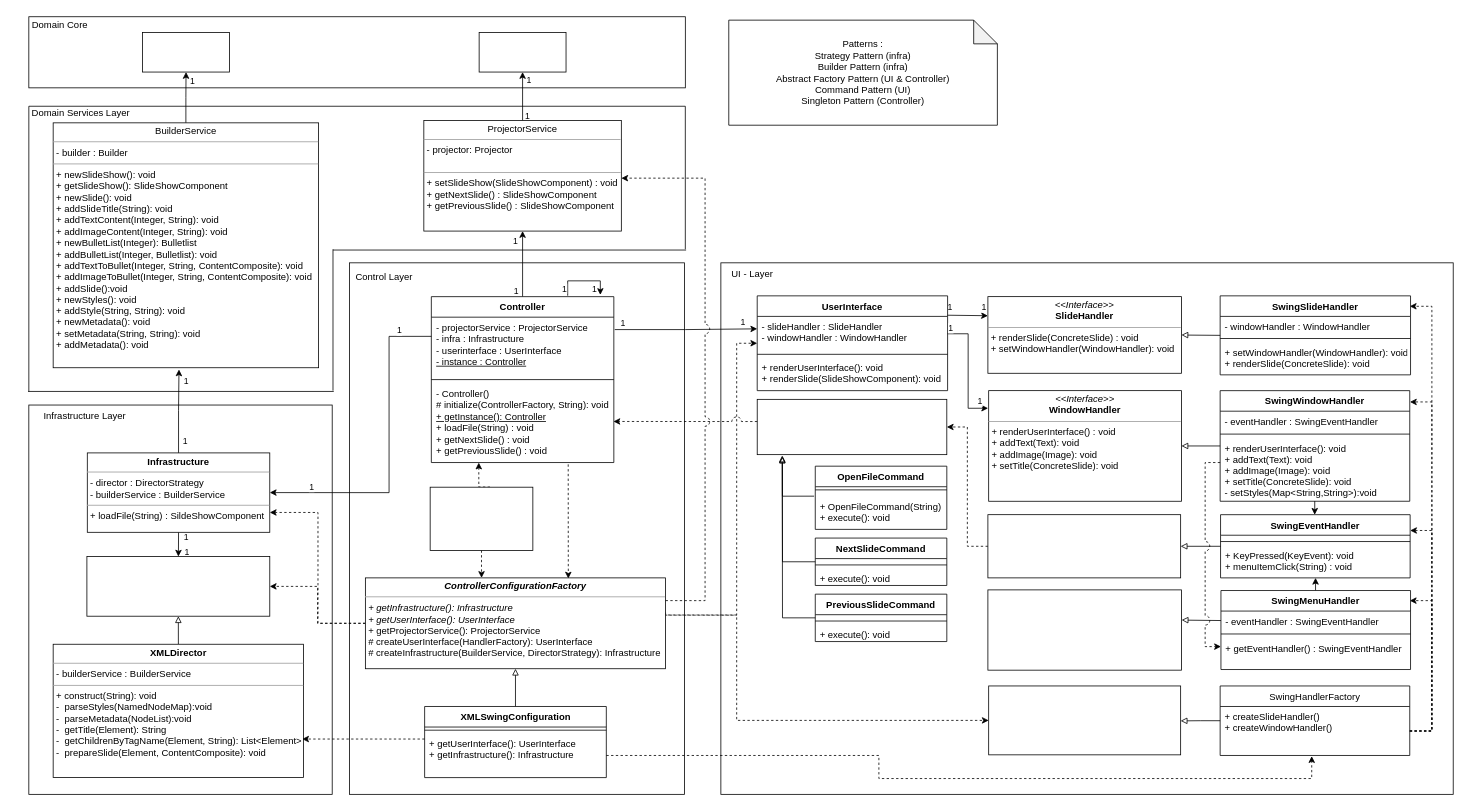
The diagram is 1467 pixels wide and 808 high, and some of its shapes have lost their labels. The centre of each missing label's shape, as x and y in pixels:
"<<Interface>> Builder" goes at pixel 185 52.
"<<Interface>> Command + execute(): void" goes at pixel 851 427.
"<<Interface>> DirectorStrategy + construct(BulderService, String): void" goes at pixel 178 586.
"<<Interface>> EventHandler + menuItemClick(String) : void" goes at pixel 1084 546.
"<<Interface>> HandlerFactory + createSlideHandler() + createWindowHandler()" goes at pixel 1084 720.
"<<Interface>> MenuHandler + getEventHandler() : EventHandler" goes at pixel 1084 629.
"JabberPoint - filepath : String + main():void" goes at pixel 481 518.
"Projector" goes at pixel 522 52.
